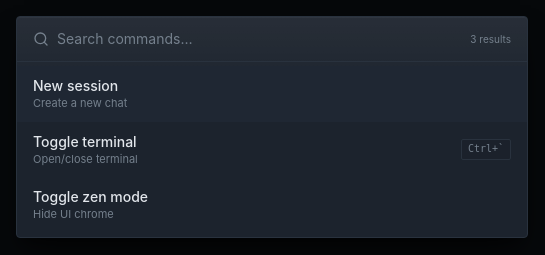
Test: CommandPalette › shows no results state
The image size is (545, 255).
Step 1. Type "zzzzz" into the field with placeholder "Search commands…" → [260, 39], box top-left (57, 29), bottom-right (462, 49)
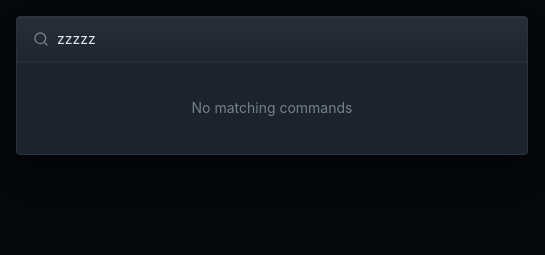
Now the text "No matching commands" is shown, box top-left (192, 99), bottom-right (352, 116)
